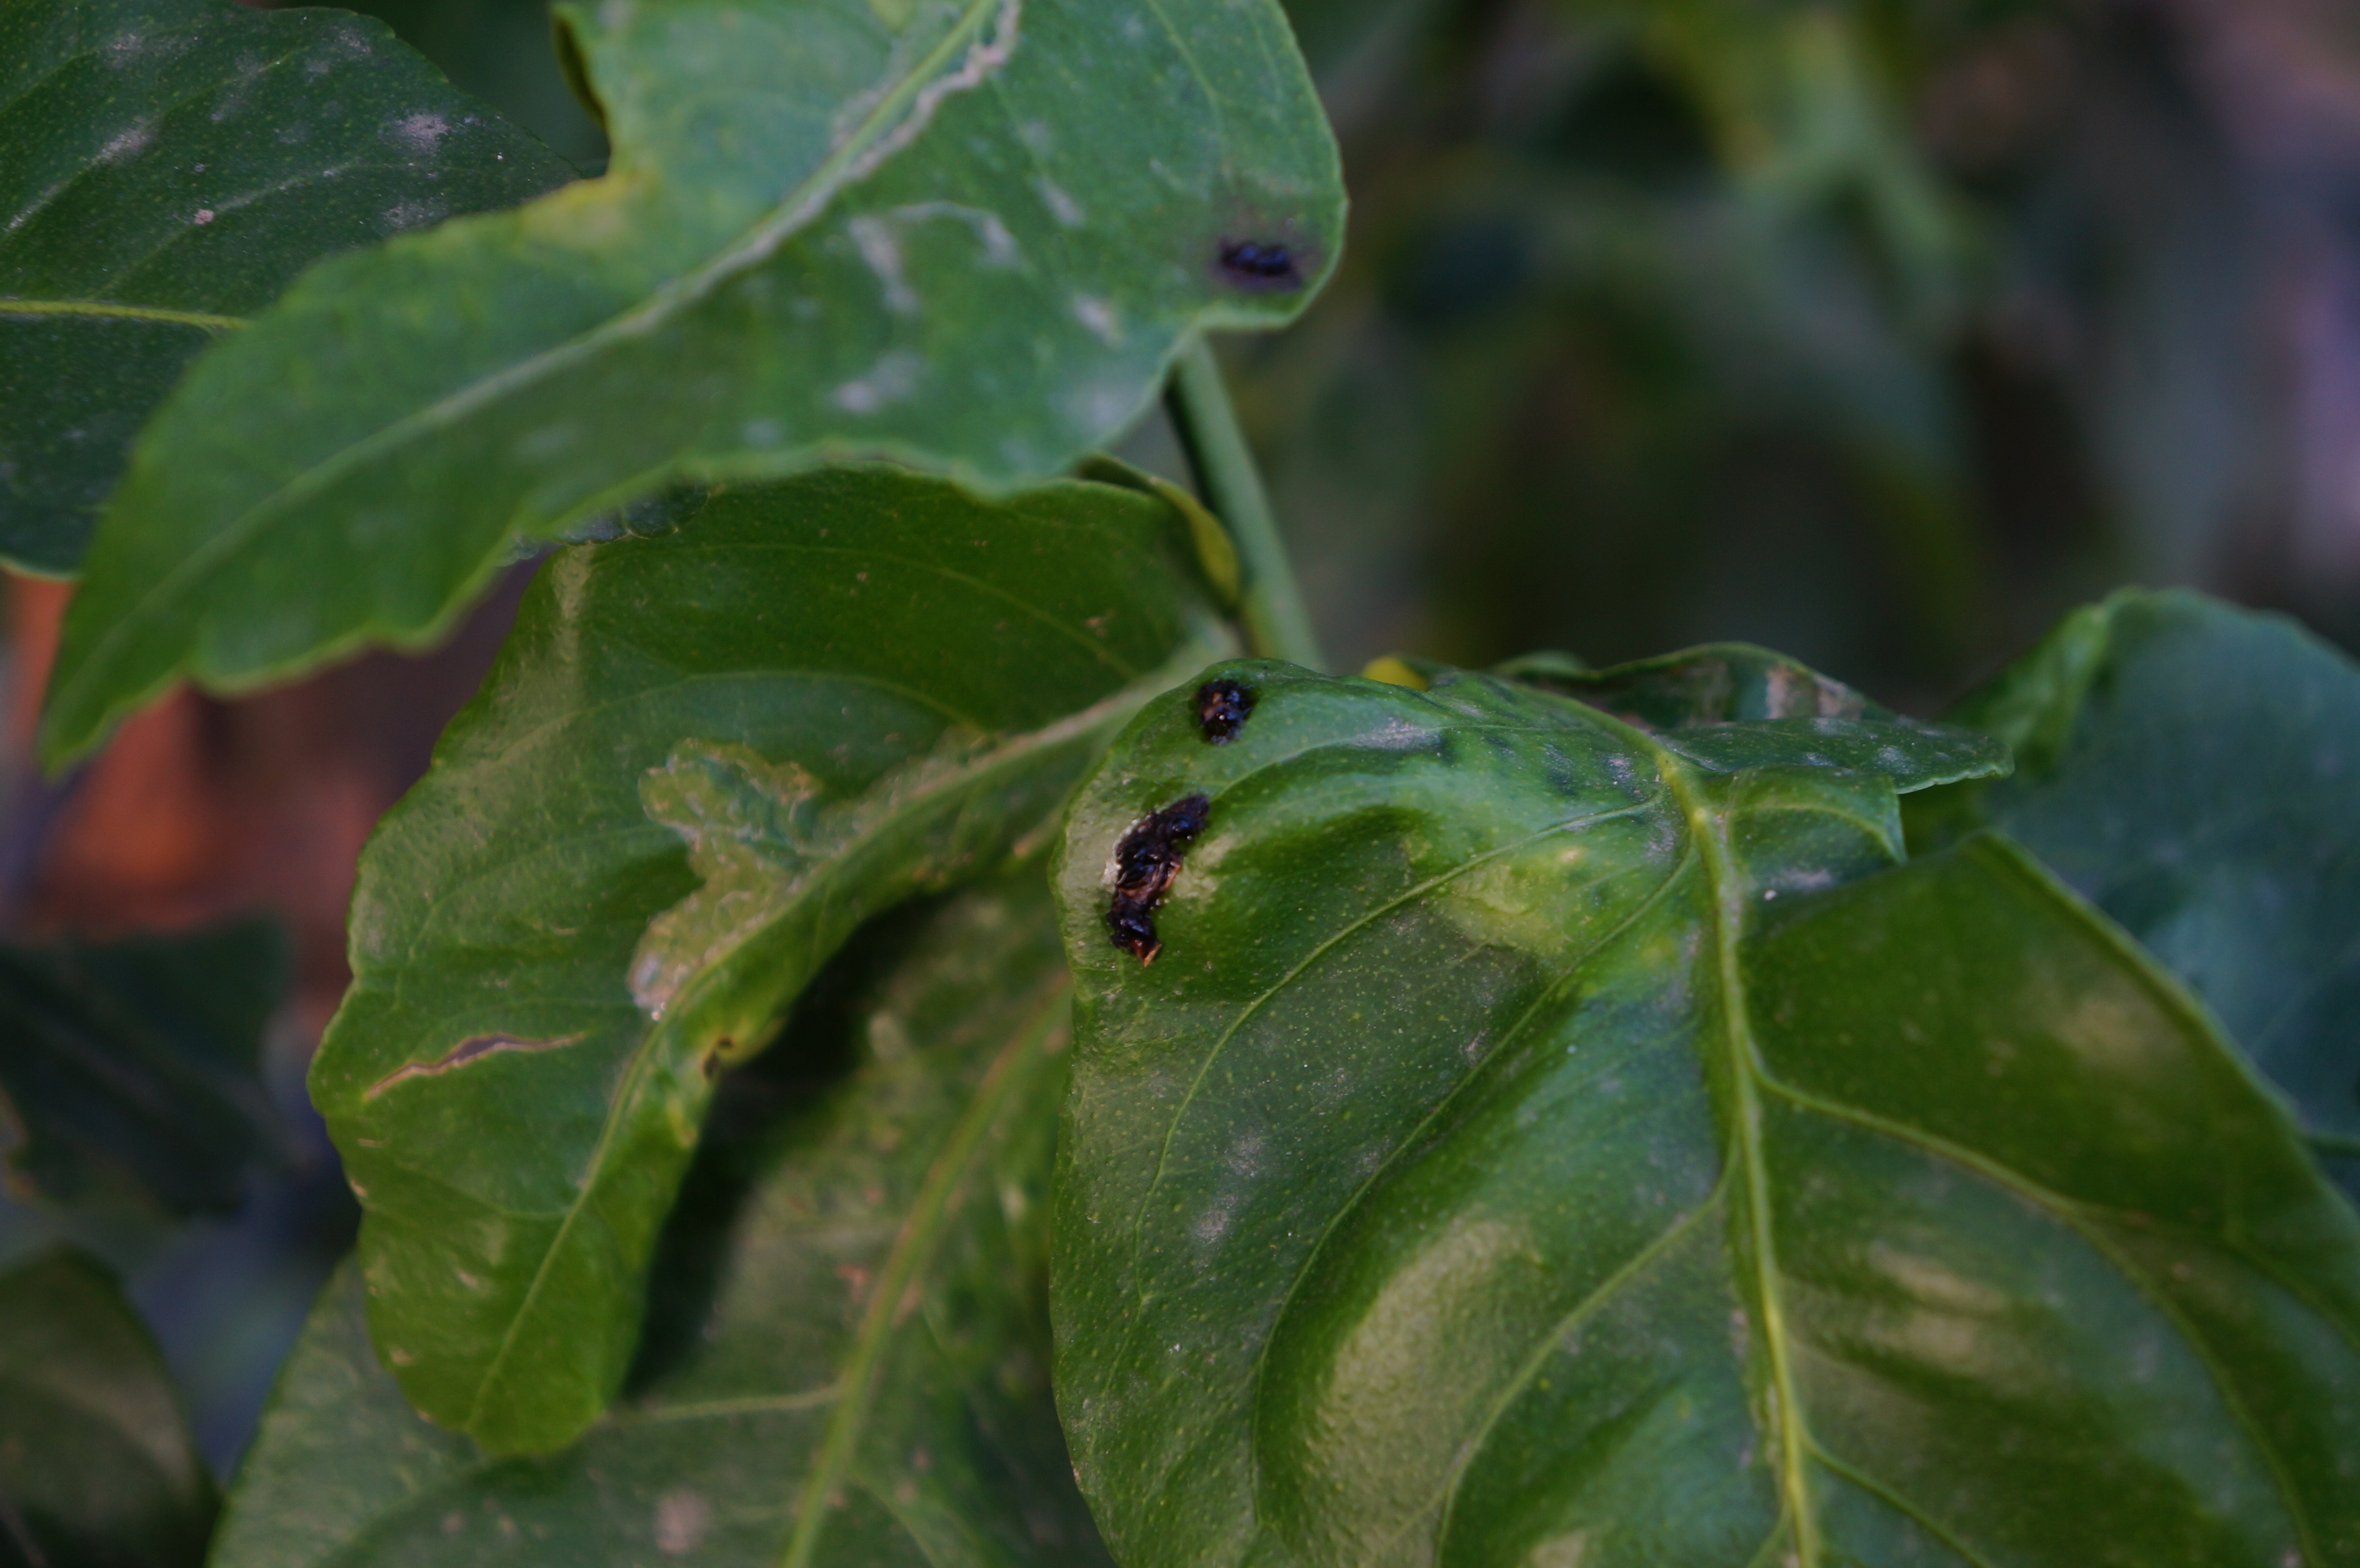damage: (588, 707, 1076, 1036)
